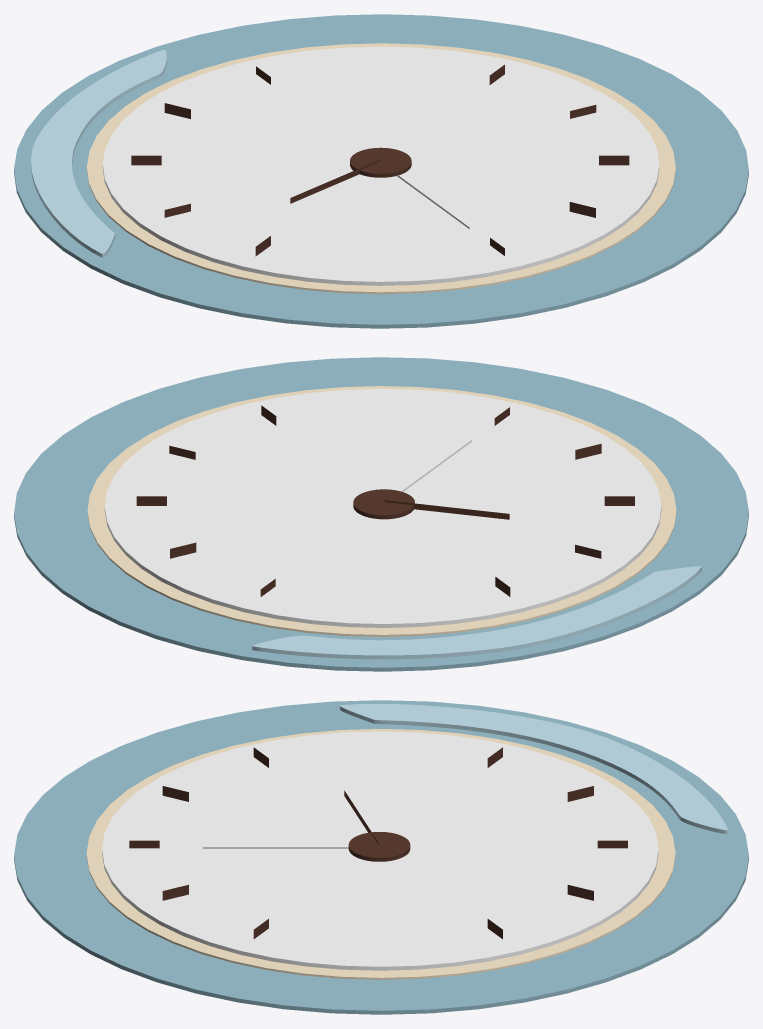
The model's file is emoji_u1f563.glb.
3 views of the same model, one above another, from view 1: azimuth 30°, elevation 25°; view 2: azimuth 150°, elevation 25°; view 3: azimuth 270°, elevation 25° (orthographic).
Visible parts, largest first — view 1: emoji_u1f563; view 2: emoji_u1f563; view 3: emoji_u1f563.
Part boxes in pixels (x1=…): emoji_u1f563: x1=14, y1=14, x2=748, y2=328; emoji_u1f563: x1=14, y1=357, x2=748, y2=671; emoji_u1f563: x1=14, y1=700, x2=748, y2=1014.
Size of the model in its own units: 0.0339 by 0.0018 by 0.0339.
